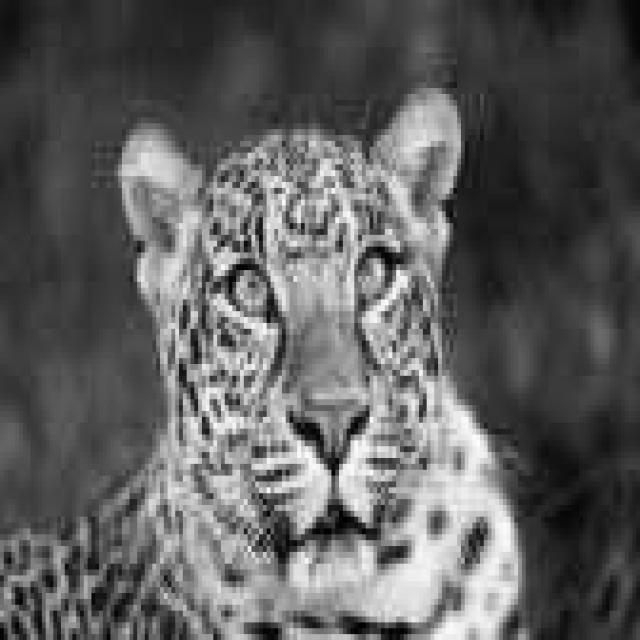Leopard: (0, 76, 530, 634)
